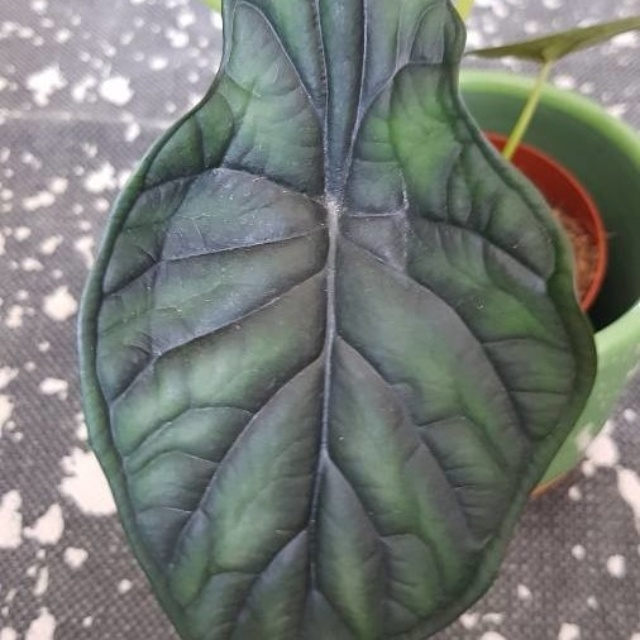obstacle: (111, 11, 631, 624)
